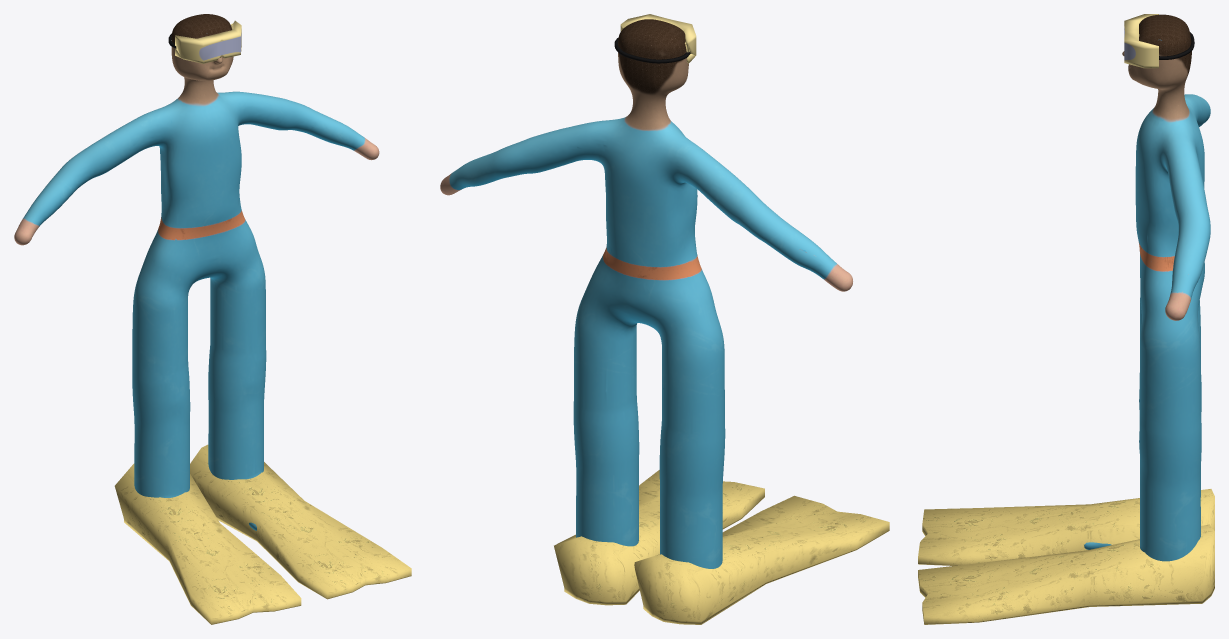
File: diver.glb
3 views of the same model, side by side, from view 1: azimuth 30°, elevation 25°; view 2: azimuth 150°, elevation 25°; view 3: azimuth 270°, elevation 25° (orthographic). The views are drawn at different scales.
Parts seen in each view (by area): view 1: diver_lp, flipper.001, flipper, mask; view 2: diver_lp, flipper, flipper.001, mask; view 3: diver_lp, flipper.001, flipper, mask.
Part boxes in pixels (x1,y1,x2,y2): diver_lp: [14, 14, 379, 530]; flipper.001: [190, 444, 411, 599]; flipper: [114, 463, 301, 624]; mask: [175, 20, 241, 63]; diver_lp: [440, 19, 852, 568]; flipper: [634, 495, 889, 624]; flipper.001: [554, 470, 764, 605]; mask: [620, 14, 696, 63]; diver_lp: [1084, 14, 1210, 561]; flipper.001: [918, 524, 1214, 624]; flipper: [918, 489, 1214, 565]; mask: [1124, 14, 1158, 68].
Bounding box in the file's own units: 1.51 × 2 × 0.9763.
Materials: 4 (3 with a texture image).
